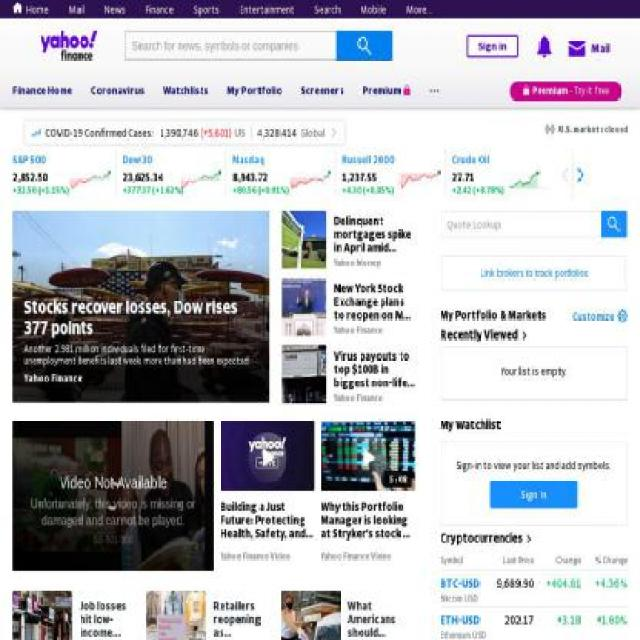button: (23, 296, 255, 404), (314, 419, 415, 573), (214, 419, 314, 573), (282, 209, 416, 269), (282, 278, 416, 336), (282, 345, 416, 403), (13, 121, 344, 144), (440, 254, 628, 292), (12, 592, 148, 639), (146, 592, 282, 639), (280, 592, 415, 639), (490, 479, 578, 508), (186, 107, 260, 139), (510, 81, 621, 101), (12, 73, 72, 104), (39, 31, 98, 60), (227, 73, 282, 104), (90, 73, 144, 104), (440, 529, 535, 546), (337, 31, 392, 60), (362, 73, 410, 104), (440, 326, 531, 342), (325, 107, 369, 139), (163, 73, 208, 104), (567, 32, 610, 63), (301, 73, 344, 104), (466, 35, 519, 57), (91, 107, 126, 139), (277, 107, 306, 139), (439, 574, 481, 592), (439, 610, 481, 628), (601, 210, 627, 238), (559, 149, 573, 200), (573, 149, 587, 200), (145, 107, 167, 139), (388, 107, 408, 139), (535, 32, 554, 63)
field: (125, 31, 337, 60), (440, 210, 628, 238)
